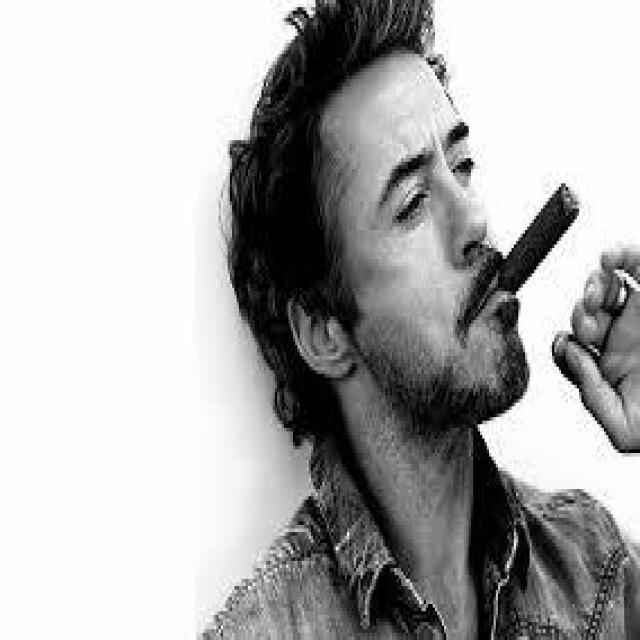person: (196, 0, 631, 636)
